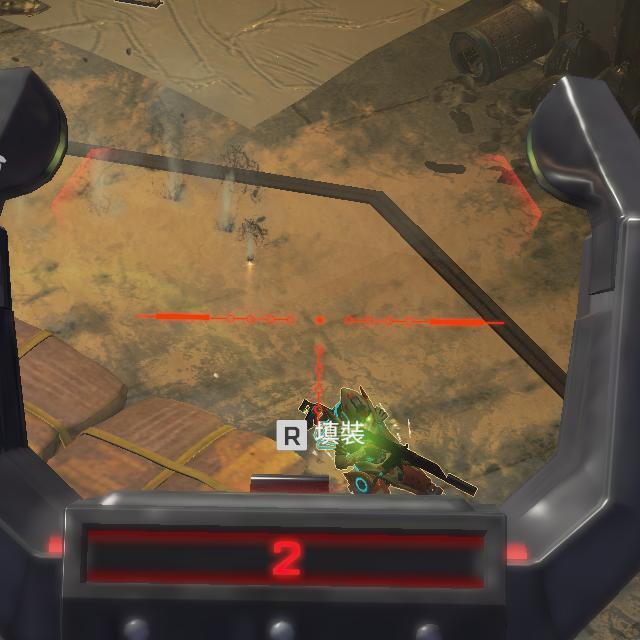avatar: (331, 384, 447, 497)
